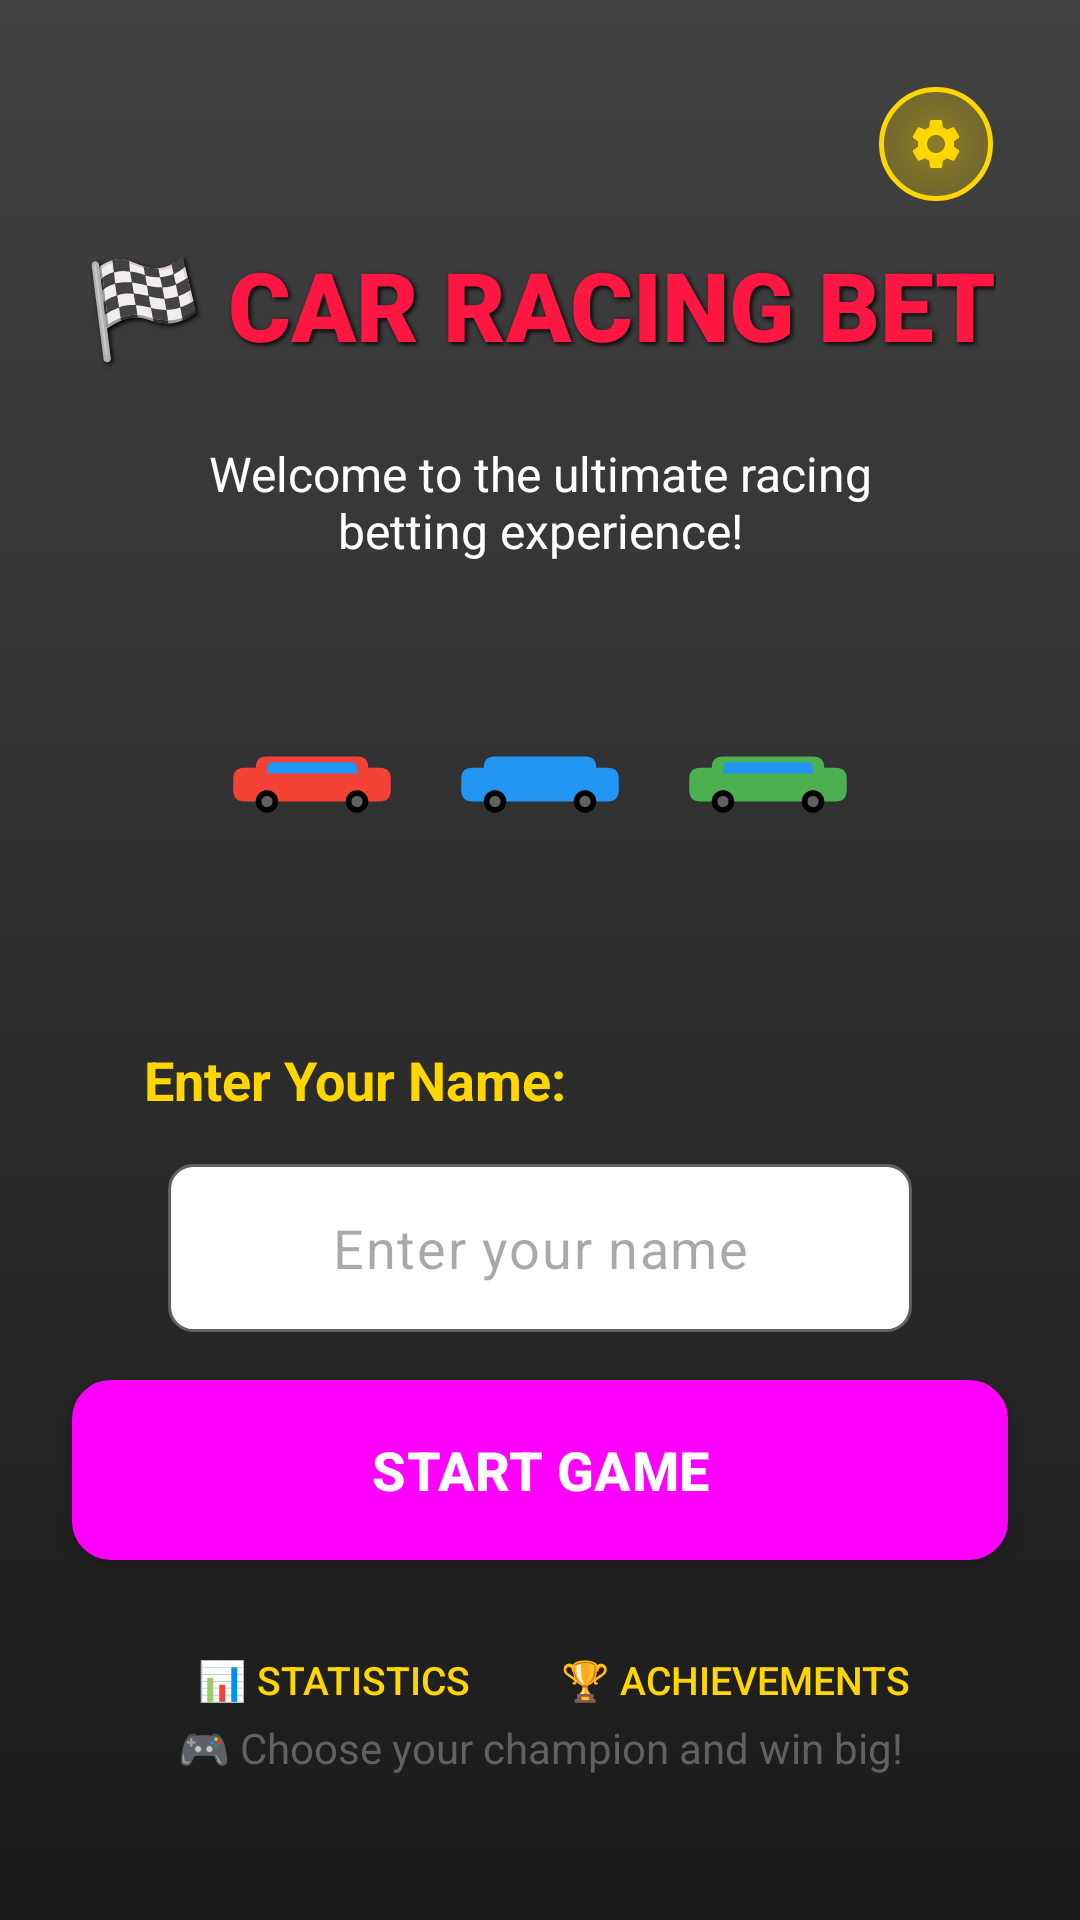

Icons on this 1080px×1920px Android screen, each with the point to tap as [x,y]:
car: [312,784], [540,784], [768,784]
Game Settings: [936,144]
